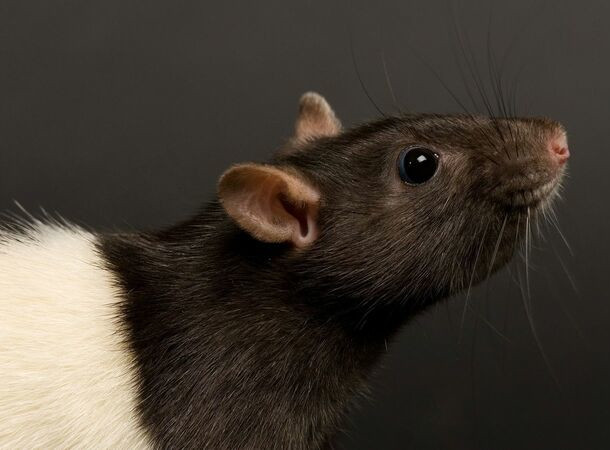rat: (100, 67, 592, 393)
